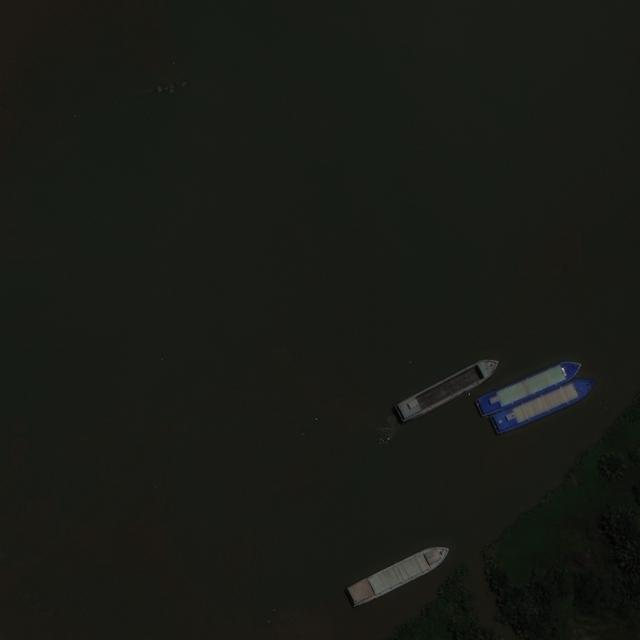Cargo: (393, 351, 504, 425), (343, 536, 454, 609), (472, 354, 586, 420), (489, 373, 598, 436)
